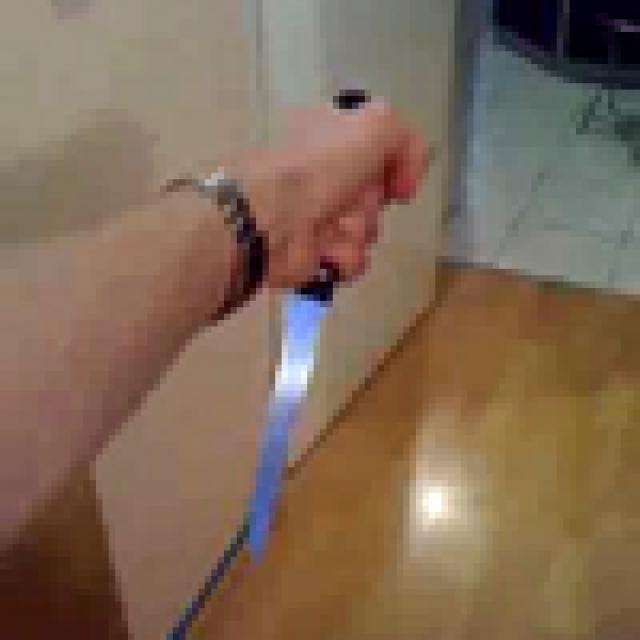knife: (212, 71, 423, 564)
